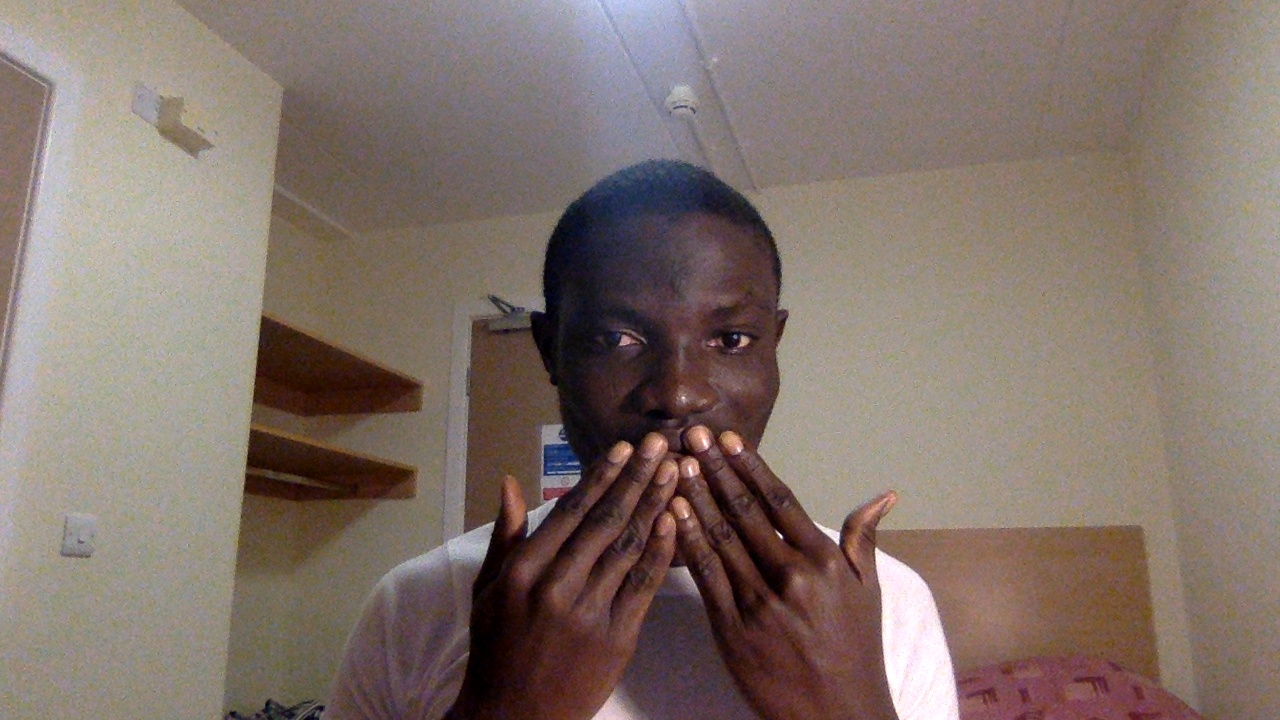Thank You: (457, 415, 909, 713)
